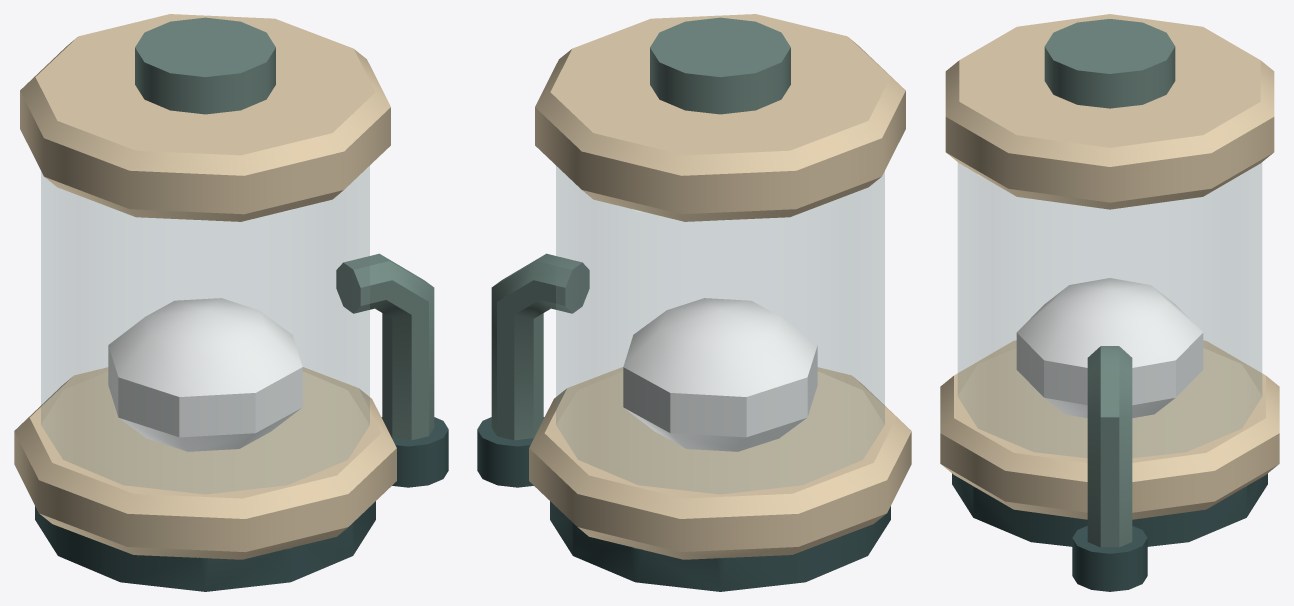
Rendered from specimen-tank.glb.
3 renders of one model, left to right at view 1: azimuth 30°, elevation 25°; view 2: azimuth 150°, elevation 25°; view 3: azimuth 270°, elevation 25°, orthographic. The views are drawn at different scales.
Visible parts, largest first — view 1: specimen-tank; view 2: specimen-tank; view 3: specimen-tank.
Part boxes in pixels (bbox=[...]): specimen-tank: bbox=[14, 14, 448, 591]; specimen-tank: bbox=[477, 14, 911, 591]; specimen-tank: bbox=[940, 14, 1279, 591].
Bounding box in the file's own units: 1.96 × 2.18 × 1.53.
Materials: 3 (1 with a texture image).
